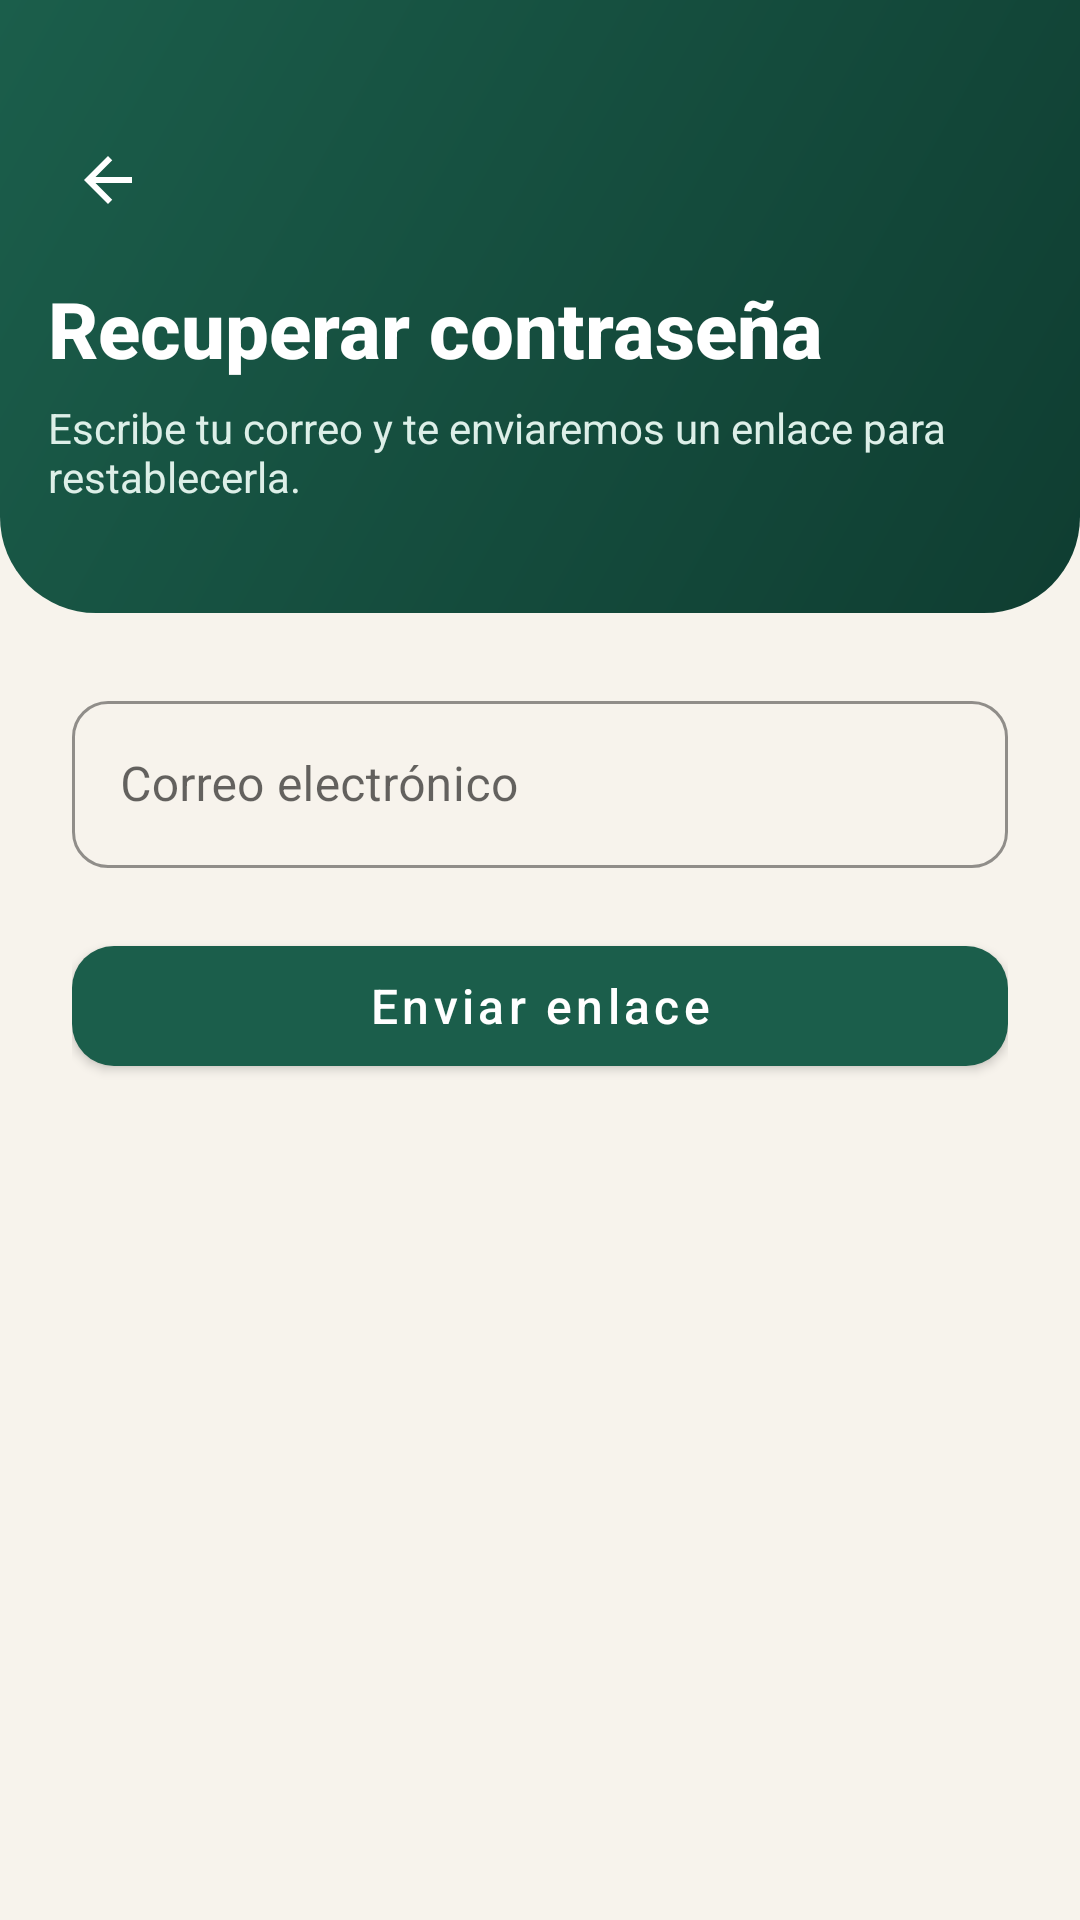

Named icons in this screenshot (1080px×1920px) and their centers, (x,y):
Volver: (108,180)
